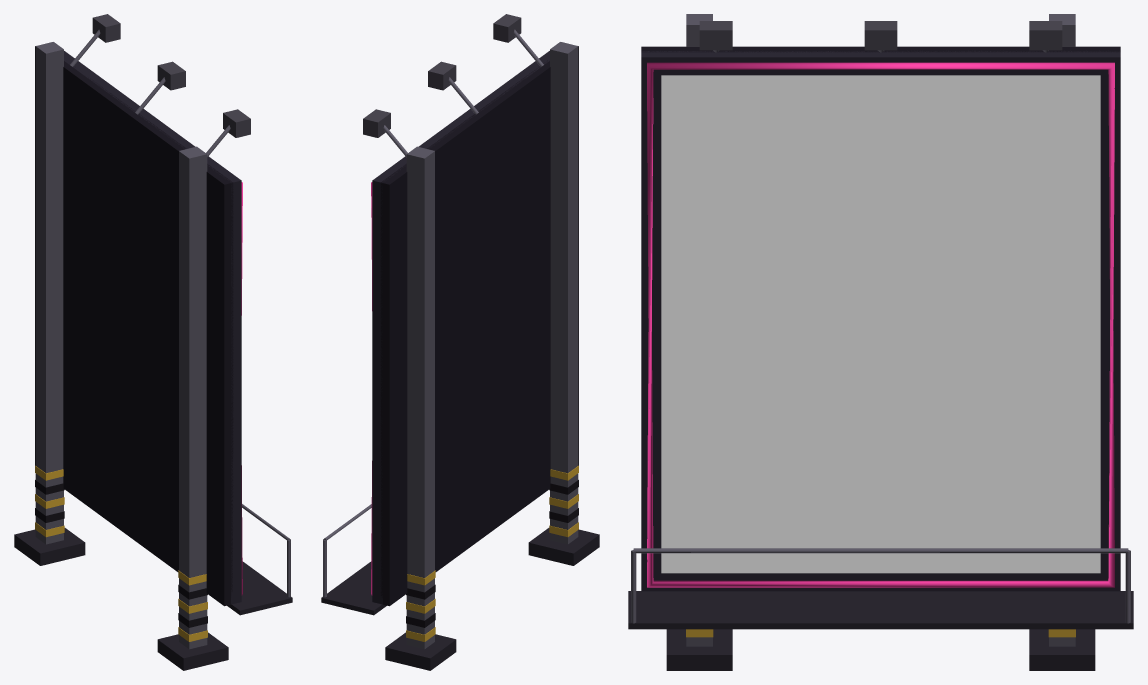
File: leaderboard.glb
3 views of the same model, side by side, from view 1: azimuth 30°, elevation 25°; view 2: azimuth 150°, elevation 25°; view 3: azimuth 270°, elevation 25° (orthographic). The views are drawn at different scales.
Visible parts, largest first — view 1: Frame, Neon_ff3ea5; view 2: Frame, Neon_ff3ea5; view 3: Screen, Frame, Neon_ff3ea5.
Part boxes in pixels (x1,y1,x2,y2): Frame: (14, 14, 292, 670); Neon_ff3ea5: (241, 182, 242, 595); Frame: (321, 14, 599, 670); Neon_ff3ea5: (371, 182, 372, 595); Screen: (661, 75, 1100, 573); Frame: (628, 14, 1133, 670); Neon_ff3ea5: (647, 62, 1114, 587).
Size of the model in its own units: 1.25 by 6.65 by 4.6.
